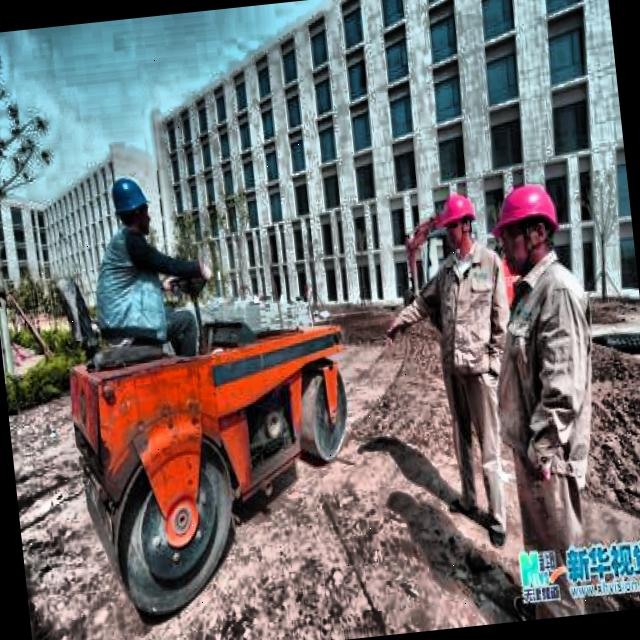helmet: (490, 174, 568, 275), (436, 187, 482, 254), (109, 171, 154, 236)
